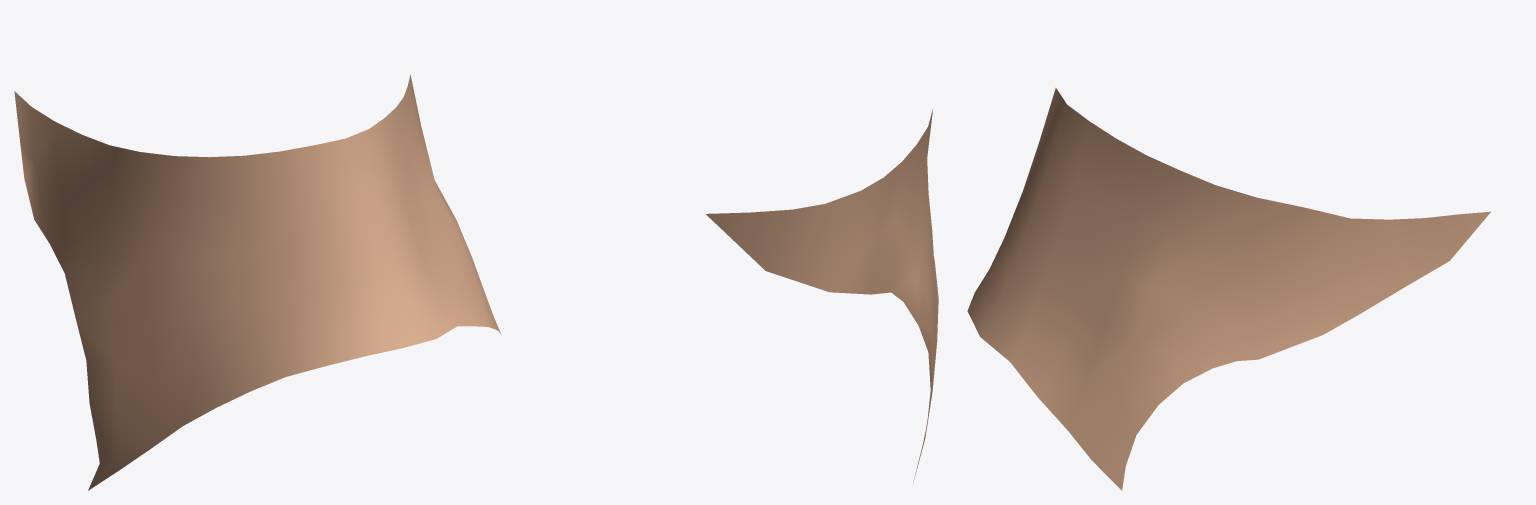
Rendered from anterior-region-of-ankle-r.glb.
3 views of the same model, side by side, from view 1: azimuth 30°, elevation 25°; view 2: azimuth 150°, elevation 25°; view 3: azimuth 270°, elevation 25° (orthographic). The views are drawn at different scales.
Parts seen in each view (by area): view 1: Anterior region of ankle.r; view 2: Anterior region of ankle.r; view 3: Anterior region of ankle.r.
Boxes of the visible parts, left/top/right/bottom form: Anterior region of ankle.r: left=14, top=74, right=501, bottom=490; Anterior region of ankle.r: left=706, top=108, right=938, bottom=483; Anterior region of ankle.r: left=967, top=88, right=1490, bottom=490.
Bounding box in the file's own units: 0.0701 × 0.0699 × 0.0809.
